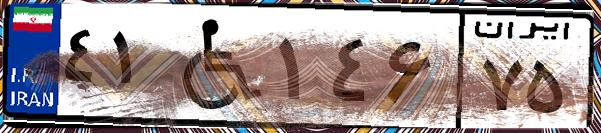1: (270, 28, 330, 110), (110, 28, 158, 98)
4: (330, 28, 385, 110), (57, 26, 110, 100)
5: (525, 38, 570, 115)
6: (385, 28, 445, 110)
7: (475, 38, 525, 113)
ژ (معلولین و جانبازان): (158, 12, 270, 120)
